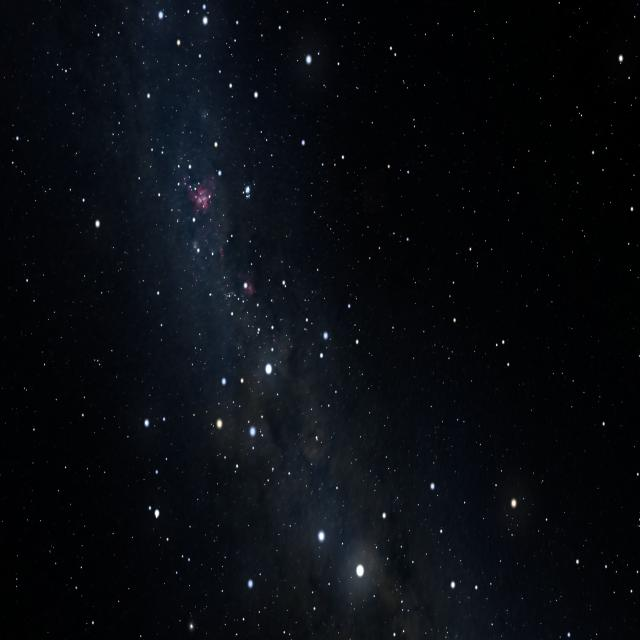Musca: (276, 262, 353, 365)
